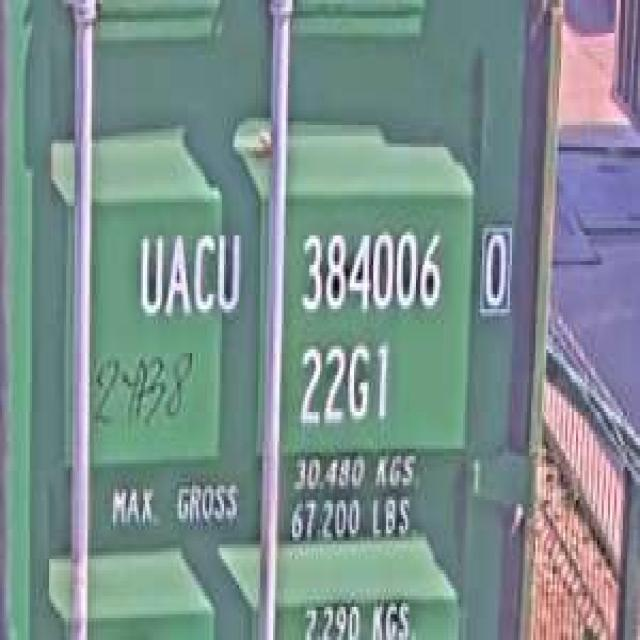dv: (476, 213, 514, 320)
owner: (132, 221, 245, 327)
serial: (294, 217, 446, 324)
size: (292, 331, 393, 438)
